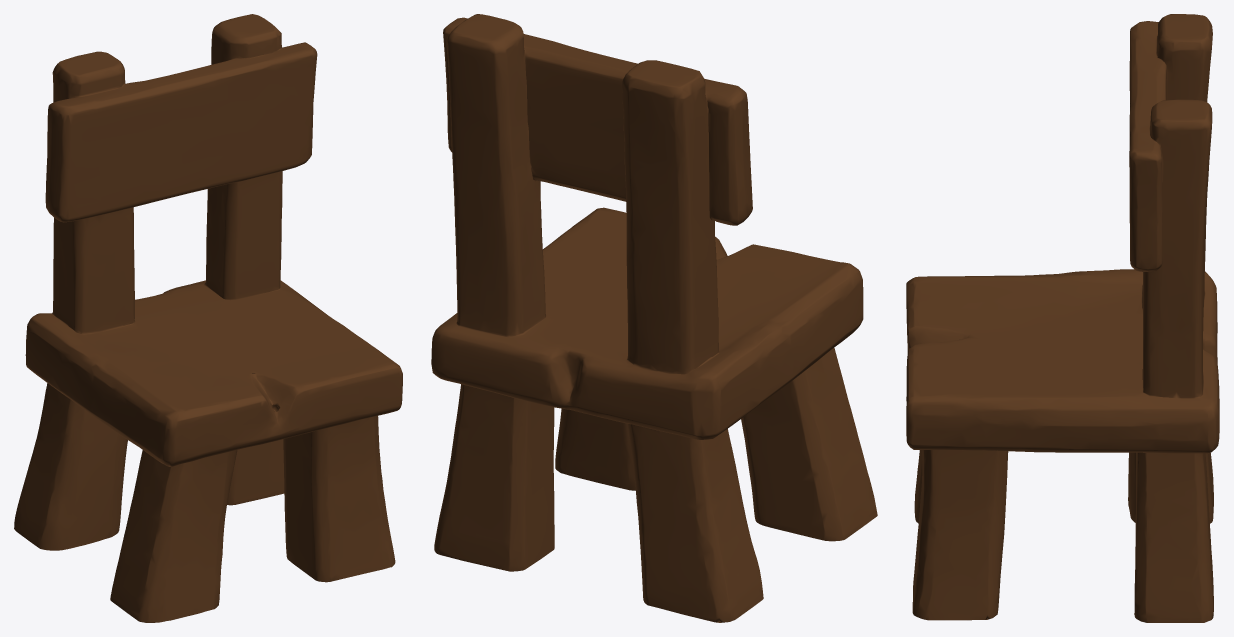
Rendered from rustic_wooden_chair.glb.
The picture shows the model from 3 angles, left to right: view 1: azimuth 30°, elevation 25°; view 2: azimuth 150°, elevation 25°; view 3: azimuth 270°, elevation 25°; orthographic projection. The views are drawn at different scales.
Parts seen in each view (by area): view 1: world_0; view 2: world_0; view 3: world_0.
Boxes of the visible parts, x1,y1,x2,y2 form: world_0: [14, 14, 402, 622]; world_0: [431, 14, 877, 622]; world_0: [906, 14, 1219, 622].
Size of the model in its own units: 0.6307 by 1 by 0.5748.
Materials: 1 (1 with a texture image).
